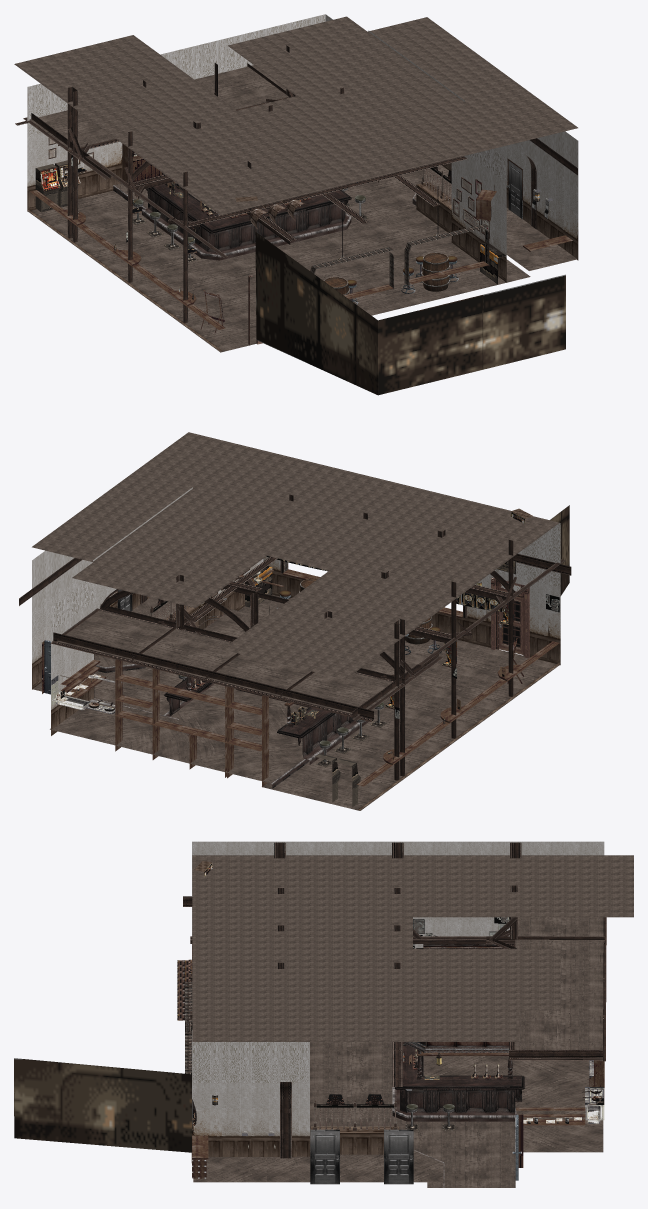
The model's file is british_pub.glb.
The picture shows the model from 3 angles, top to bottom: view 1: azimuth 30°, elevation 25°; view 2: azimuth 150°, elevation 25°; view 3: azimuth 270°, elevation 25°; orthographic projection. The views are drawn at different scales.
Visible parts, largest first — view 1: FrontSide_25, FrontSide_22, FrontSide_11, FrontSide_15, FrontSide_1, FrontSide_4, FrontSide_13, FrontSide_2, FrontSide_21, FrontSide_24, FrontSide_10, FrontSide_26 (+3 smaller); view 2: FrontSide_25, FrontSide_15, FrontSide_13, FrontSide_11, FrontSide_4, FrontSide_1, FrontSide_23, FrontSide_21, FrontSide_3, FrontSide_10, FrontSide_2, FrontSide_5 (+1 smaller); view 3: FrontSide_25, FrontSide_11, FrontSide_22, FrontSide_1, FrontSide_15, FrontSide_4, FrontSide_9, FrontSide_13, FrontSide_2, FrontSide_23, FrontSide_5, FrontSide_10.
Boxes of the visible parts, <box> form: FrontSide_25: <box>14,16,577,352</box>; FrontSide_22: <box>255,232,565,395</box>; FrontSide_11: <box>27,14,578,232</box>; FrontSide_15: <box>15,45,577,322</box>; FrontSide_1: <box>113,173,447,260</box>; FrontSide_4: <box>27,163,578,351</box>; FrontSide_13: <box>30,143,572,332</box>; FrontSide_2: <box>27,146,564,257</box>; FrontSide_21: <box>35,160,539,284</box>; FrontSide_24: <box>48,138,491,238</box>; FrontSide_10: <box>99,141,578,240</box>; FrontSide_26: <box>324,252,449,299</box>; FrontSide_25: <box>32,432,559,810</box>; FrontSide_15: <box>19,494,571,780</box>; FrontSide_13: <box>42,569,559,786</box>; FrontSide_11: <box>32,487,560,683</box>; FrontSide_4: <box>32,508,560,809</box>; FrontSide_1: <box>94,582,501,788</box>; FrontSide_23: <box>157,577,529,658</box>; FrontSide_21: <box>245,560,515,807</box>; FrontSide_3: <box>190,556,513,753</box>; FrontSide_10: <box>98,556,560,639</box>; FrontSide_2: <box>32,558,263,710</box>; FrontSide_5: <box>51,675,115,714</box>; FrontSide_25: <box>191,855,633,1187</box>; FrontSide_11: <box>192,841,604,1109</box>; FrontSide_22: <box>14,1058,191,1152</box>; FrontSide_1: <box>392,944,524,1187</box>; FrontSide_15: <box>183,842,606,1158</box>; FrontSide_4: <box>194,861,399,1156</box>; FrontSide_9: <box>310,1129,413,1184</box>; FrontSide_13: <box>192,1049,604,1178</box>; FrontSide_2: <box>221,1109,309,1136</box>; FrontSide_23: <box>177,944,384,1105</box>; FrontSide_5: <box>241,1060,604,1148</box>; FrontSide_10: <box>192,948,415,1136</box>.
Size of what is drawn, in the model's own units: 1.83 by 0.6962 by 2.41.
Materials: 27 (27 with a texture image).
